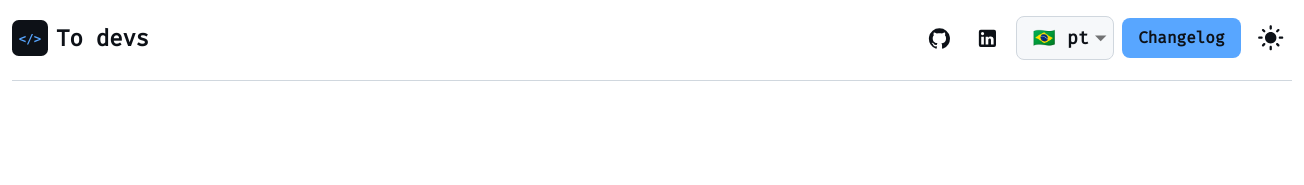
Test: Header › should switch app`s language
The image size is (1304, 185).
Expected: the header named "Cabeçalho do site" is shown, [12, 0, 1292, 81]
Click the dropdown at {"x": 1065, "y": 38}, box [1016, 16, 1114, 60]
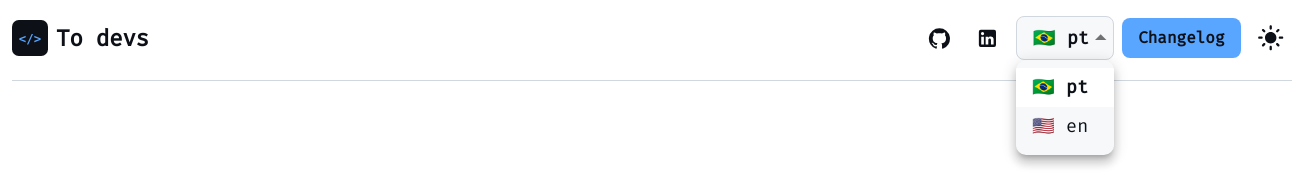
Click the option with aria-label "Inglês americano" at {"x": 1065, "y": 127}, box [1016, 107, 1114, 147]
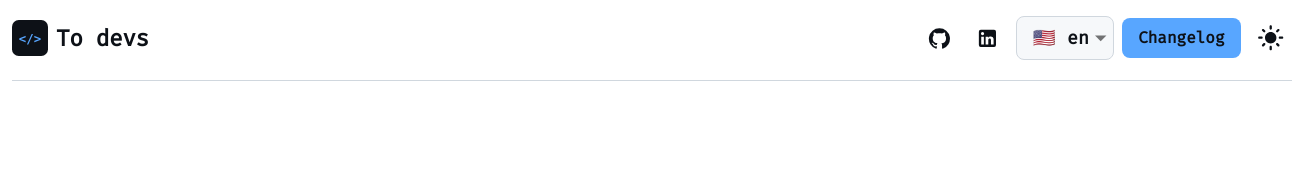
Result: the header named "Site`s header" is shown at [12, 0, 1292, 81]
